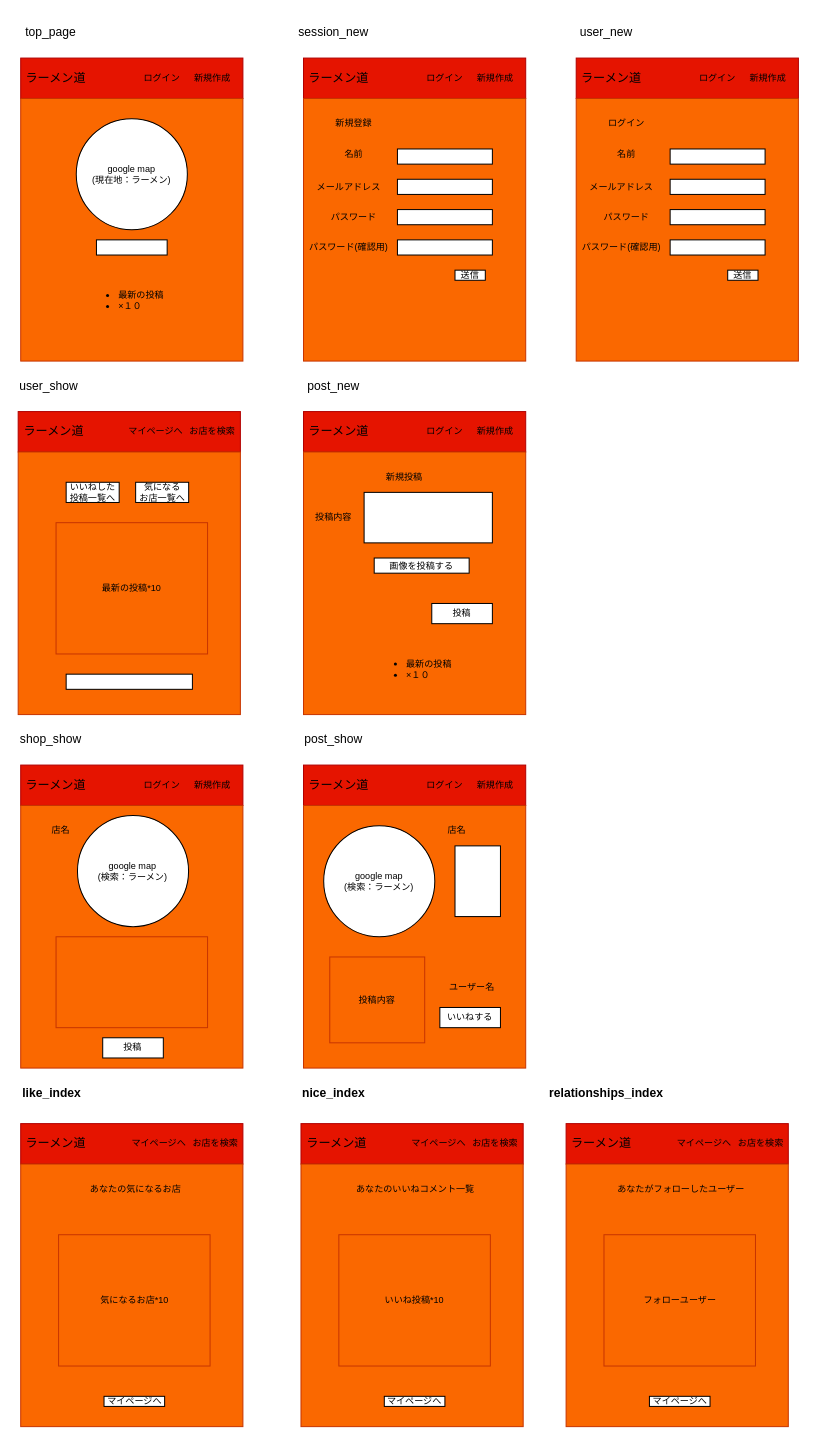
Some shapes in this 816 by 1444 pixel diagram are drawn without their labels. Here are the shapes that lost their labels. From the top down, the centre of each, then its label:
At pixel 131 247: "お店を検索する".
At pixel 128 681: "お気に入りユーザー一覧へ".
At pixel 477 881: "お店 情報".
At pixel 131 982: "お店の投稿".
